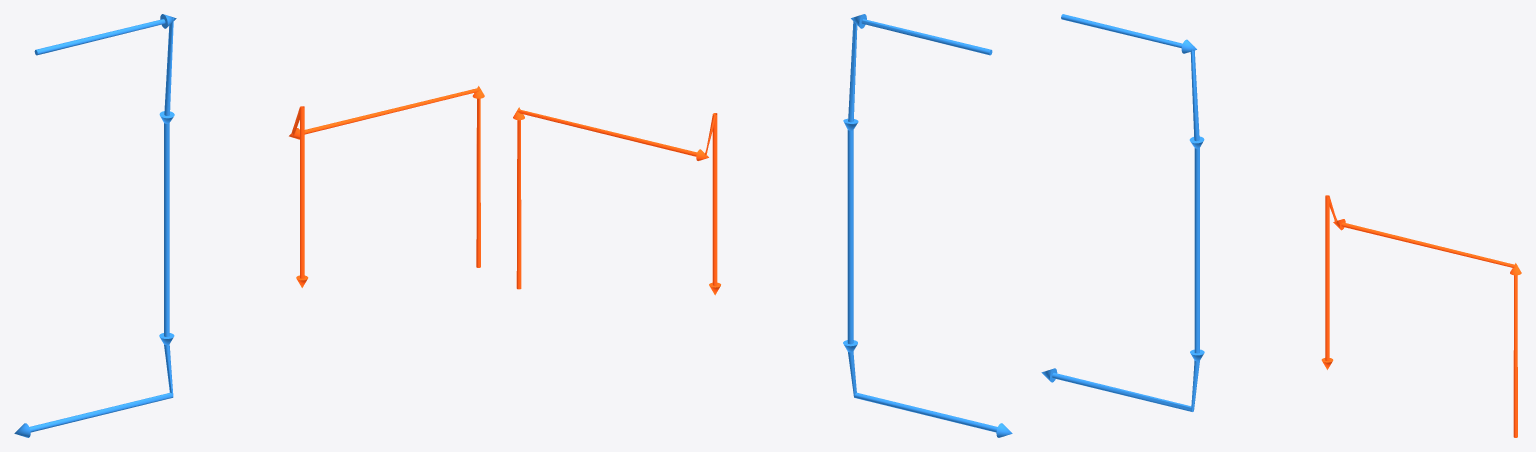
File: water_softener_flow.glb
The picture shows the model from 3 angles, left to right: view 1: azimuth 30°, elevation 25°; view 2: azimuth 150°, elevation 25°; view 3: azimuth 330°, elevation 25°; orthographic projection. The views are drawn at different scales.
Visible parts, largest first — view 1: hard_water, brine.002; view 2: hard_water, brine.002; view 3: hard_water, brine.002.
Boxes of the visible parts, x1,y1,x2,y2 form: hard_water: (14, 14, 176, 437); brine.002: (289, 86, 484, 287); hard_water: (843, 14, 1012, 437); brine.002: (513, 107, 720, 295); hard_water: (1041, 14, 1204, 411); brine.002: (1321, 195, 1521, 437).
Bounding box in the file's own units: 2.86 × 2.2 × 0.2202.
